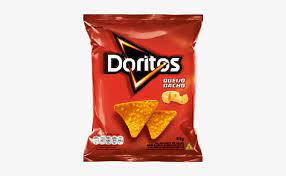Doritos: (76, 6, 215, 176)
